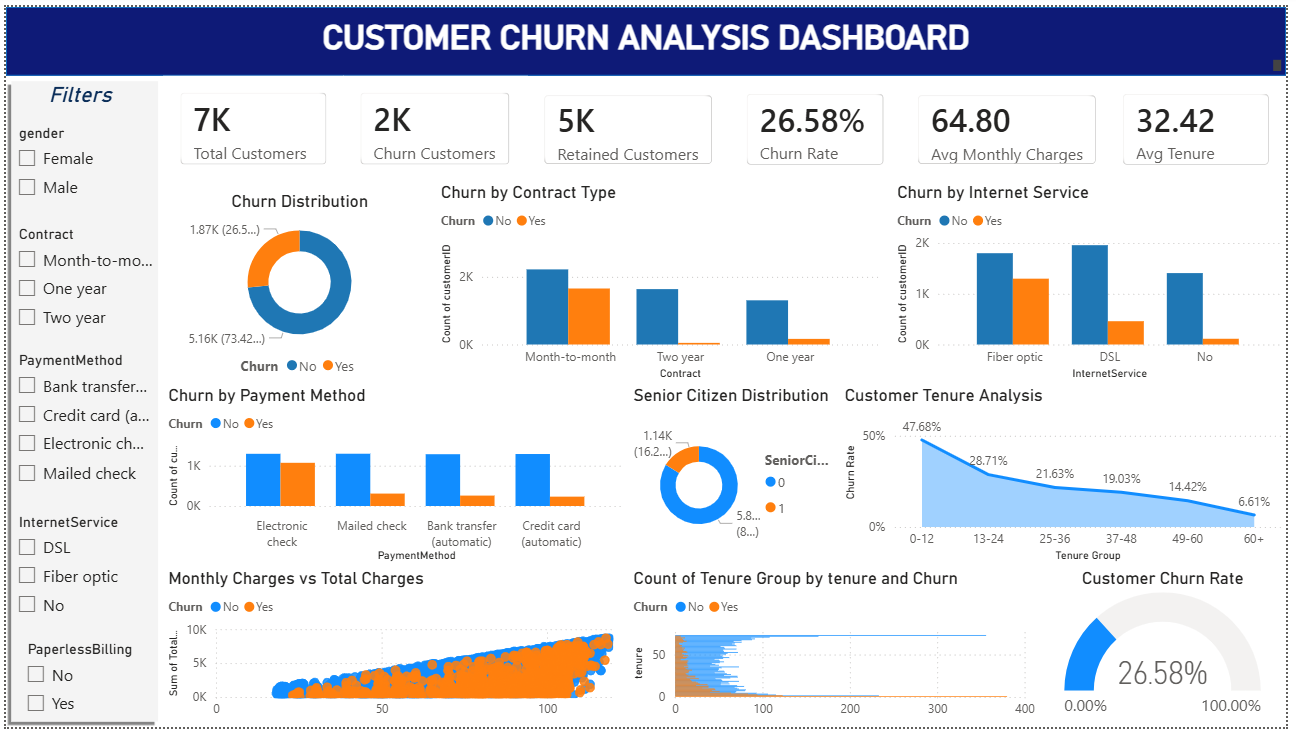

What the dashboard file says about the page in this screenshot:
{"tool":"powerbi","page":{"name":"Page 1","canvas":[1280,720],"ordinal":0},"visuals":[{"type":"shape","box":[0,0,1280,68.8],"z":1000},{"type":"textbox","title":"CUSTOMER CHURN ANALYSIS DASHBOARD","box":[0,0,1280,68.8],"z":1001},{"type":"shape","box":[0,68.8,157.5,651.2],"z":1002},{"type":"cardVisual","fields":{"Data":["telco_customer_churn_cleaned.Total Customers"]},"box":[157.5,68.8,180,106.2],"z":1003},{"type":"cardVisual","fields":{"Data":["telco_customer_churn_cleaned.Churn Customers"]},"box":[337.5,68.8,183.8,106.2],"z":1004},{"type":"cardVisual","fields":{"Data":["telco_customer_churn_cleaned.Retained Customers"]},"box":[521.2,71.2,202.5,103.8],"z":1005},{"type":"cardVisual","fields":{"Data":["telco_customer_churn_cleaned.Churn Rate"]},"box":[723.8,70,171.2,105],"z":1006},{"type":"cardVisual","fields":{"Data":["telco_customer_churn_cleaned.Avg Monthly Charges"]},"box":[895,71.2,212.5,103.8],"z":1007},{"type":"cardVisual","fields":{"Data":["telco_customer_churn_cleaned.Avg Tenure"]},"box":[1100,70,180,105],"z":1008},{"type":"textbox","title":"Filters","box":[0,71.2,148.8,31.2],"z":1009},{"type":"slicer","fields":{"Values":["telco_customer_churn_cleaned.gender"]},"box":[0,112.5,157.5,101.2],"z":1010},{"type":"slicer","fields":{"Values":["telco_customer_churn_cleaned.Contract"]},"box":[0,213.8,157.5,117.5],"z":1011},{"type":"slicer","fields":{"Values":["telco_customer_churn_cleaned.InternetService"]},"box":[0,501.2,157.5,117.5],"z":1012},{"type":"slicer","fields":{"Values":["telco_customer_churn_cleaned.PaymentMethod"]},"box":[0,340,148.8,148.8],"z":1013},{"type":"slicer","fields":{"Values":["telco_customer_churn_cleaned.PaperlessBilling"]},"box":[8.8,628.8,148.8,91.2],"z":1015},{"type":"donutChart","title":"Churn Distribution","fields":{"Category":["telco_customer_churn_cleaned.Churn"],"Y":["CountNonNull(telco_customer_churn_cleaned.customerID)"]},"box":[157.5,183.8,272.5,193.8],"z":1016},{"type":"clusteredColumnChart","title":"Churn by Contract Type","fields":{"Category":["telco_customer_churn_cleaned.Contract"],"Y":["CountNonNull(telco_customer_churn_cleaned.customerID)"],"Series":["telco_customer_churn_cleaned.Churn"]},"box":[430,175,447.5,202.5],"z":1017},{"type":"clusteredColumnChart","title":"Churn by Internet Service","fields":{"Category":["telco_customer_churn_cleaned.InternetService"],"Y":["CountNonNull(telco_customer_churn_cleaned.customerID)"],"Series":["telco_customer_churn_cleaned.Churn"]},"box":[886.2,175,393.8,202.5],"z":1018},{"type":"clusteredColumnChart","title":"Churn by Payment Method","fields":{"Category":["telco_customer_churn_cleaned.PaymentMethod"],"Series":["telco_customer_churn_cleaned.Churn"],"Y":["CountNonNull(telco_customer_churn_cleaned.customerID)"]},"box":[157.5,377.5,465,182.5],"z":1019},{"type":"lineChart","title":"Customer Tenure Analysis","fields":{"Category":["telco_customer_churn_cleaned.Tenure Group"],"Y":["telco_customer_churn_cleaned.Churn Rate"]},"box":[833.8,377.5,446.2,182.5],"z":1020},{"type":"donutChart","title":"Senior Citizen Distribution","fields":{"Category":["telco_customer_churn_cleaned.SeniorCitizen"],"Y":["CountNonNull(telco_customer_churn_cleaned.customerID)"]},"box":[622.5,377.5,211.2,182.5],"z":1021},{"type":"scatterChart","title":"Monthly Charges vs Total Charges","fields":{"X":["Sum(telco_customer_churn_cleaned.MonthlyCharges)"],"Y":["Sum(telco_customer_churn_cleaned.TotalCharges)"],"Series":["telco_customer_churn_cleaned.Churn"],"Category":["telco_customer_churn_cleaned.customerID"]},"box":[158,561,465,159],"z":1022},{"type":"clusteredBarChart","fields":{"Series":["telco_customer_churn_cleaned.Churn"],"Y":["CountNonNull(telco_customer_churn_cleaned.Tenure Group)"],"Category":["telco_customer_churn_cleaned.tenure"]},"box":[622.5,561.2,411.2,158.8],"z":1023},{"type":"gauge","title":"Customer Churn Rate","fields":{"Y":["telco_customer_churn_cleaned.Churn Rate"],"TargetValue":["telco_customer_churn_cleaned.Target Churn Rate"]},"box":[1034,561,246,159],"z":1024}]}

Visuals, with their boxes in screenshot pixels (x1, y1, x2, y2), scaled from the page's 1280x720 canvas onto the 1296x739 screenshot:
shape: Rect(0, 0, 1295, 71)
"CUSTOMER CHURN ANALYSIS DASHBOARD" textbox: Rect(0, 0, 1295, 71)
shape: Rect(0, 71, 159, 738)
cardVisual - telco_customer_churn_cleaned.Total Customers: Rect(159, 71, 342, 180)
cardVisual - telco_customer_churn_cleaned.Churn Customers: Rect(342, 71, 528, 180)
cardVisual - telco_customer_churn_cleaned.Retained Customers: Rect(528, 73, 733, 180)
cardVisual - telco_customer_churn_cleaned.Churn Rate: Rect(733, 72, 906, 180)
cardVisual - telco_customer_churn_cleaned.Avg Monthly Charges: Rect(906, 73, 1121, 180)
cardVisual - telco_customer_churn_cleaned.Avg Tenure: Rect(1114, 72, 1295, 180)
"Filters" textbox: Rect(0, 73, 151, 105)
slicer - telco_customer_churn_cleaned.gender: Rect(0, 115, 159, 219)
slicer - telco_customer_churn_cleaned.Contract: Rect(0, 219, 159, 340)
slicer - telco_customer_churn_cleaned.InternetService: Rect(0, 514, 159, 635)
slicer - telco_customer_churn_cleaned.PaymentMethod: Rect(0, 349, 151, 502)
slicer - telco_customer_churn_cleaned.PaperlessBilling: Rect(9, 645, 160, 738)
"Churn Distribution" donutChart: Rect(159, 189, 435, 388)
"Churn by Contract Type" clusteredColumnChart: Rect(435, 180, 888, 387)
"Churn by Internet Service" clusteredColumnChart: Rect(897, 180, 1295, 387)
"Churn by Payment Method" clusteredColumnChart: Rect(159, 387, 630, 575)
"Customer Tenure Analysis" lineChart: Rect(844, 387, 1295, 575)
"Senior Citizen Distribution" donutChart: Rect(630, 387, 844, 575)
"Monthly Charges vs Total Charges" scatterChart: Rect(160, 576, 631, 738)
clusteredBarChart - telco_customer_churn_cleaned.Churn x CountNonNull(telco_customer_churn_cleaned.Tenure Group): Rect(630, 576, 1047, 738)
"Customer Churn Rate" gauge: Rect(1047, 576, 1295, 738)
